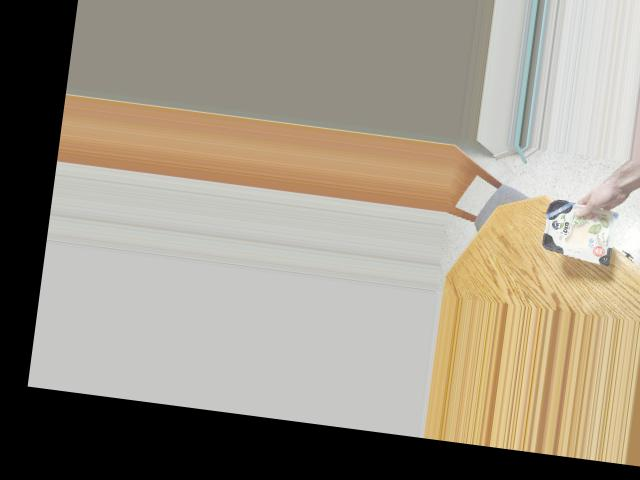cheese: (532, 193, 632, 259)
